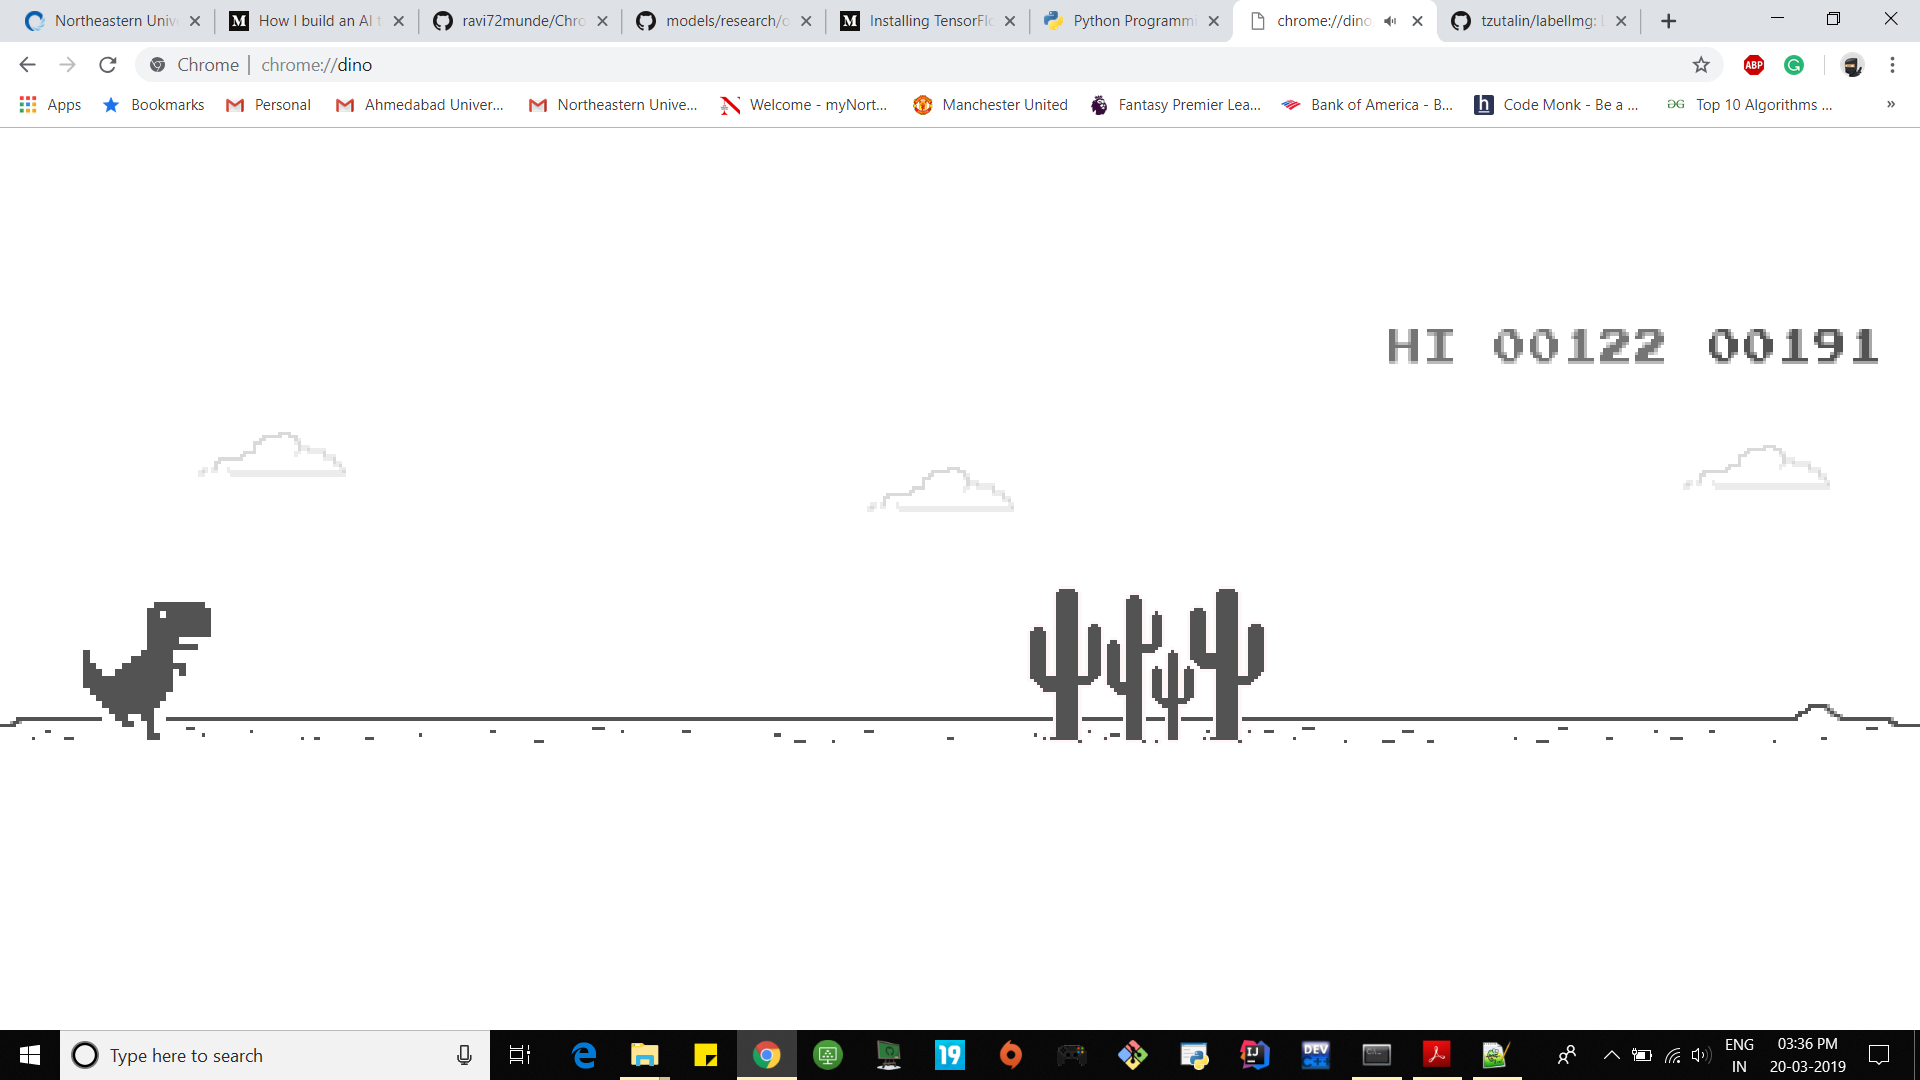cactus-4: (1025, 579, 1266, 742)
dino: (83, 593, 211, 740)
